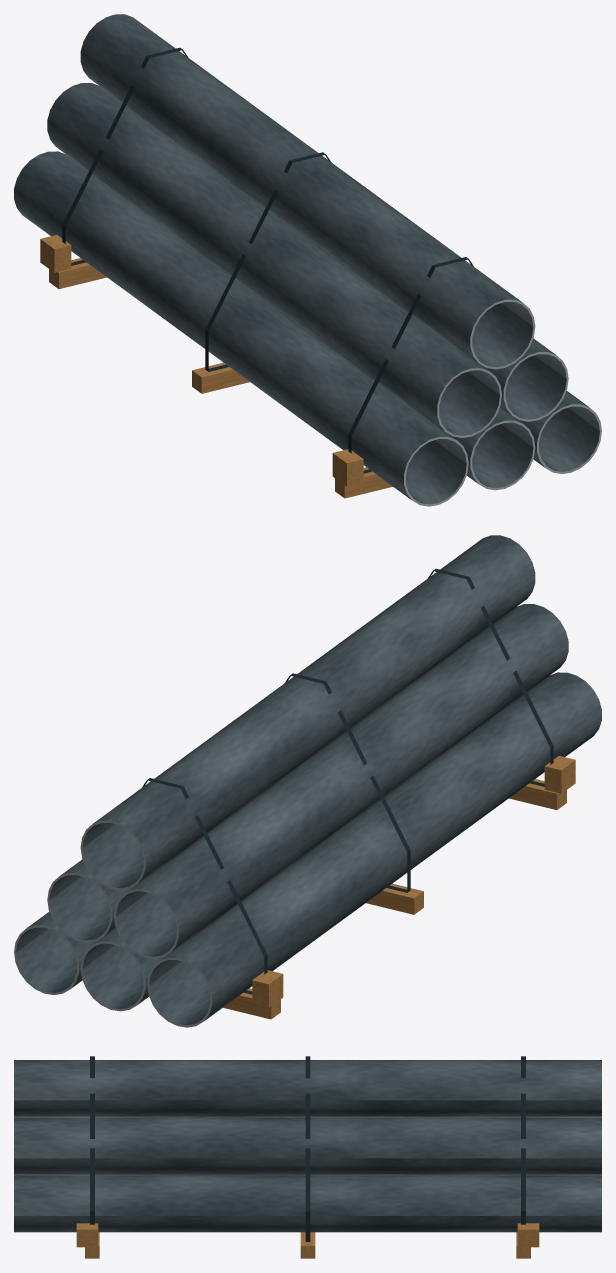
The model's file is large_pipes.glb.
3 renders of one model, top to bottom at view 1: azimuth 30°, elevation 25°; view 2: azimuth 150°, elevation 25°; view 3: azimuth 270°, elevation 25°, orthographic. The views are drawn at different scales.
Parts seen in each view (by area): view 1: Mill-scale steel, Pine dunnage, Steel cut edges, Steel banding; view 2: Mill-scale steel, Pine dunnage, Steel cut edges, Steel banding; view 3: Mill-scale steel, Steel banding, Pine dunnage.
Part boxes in pixels (<box>): Mill-scale steel: <box>14,14,599,504</box>; Pine dunnage: <box>40,235,392,498</box>; Steel cut edges: <box>404,299,601,506</box>; Steel banding: <box>62,47,473,473</box>; Mill-scale steel: <box>16,535,601,1025</box>; Pine dunnage: <box>223,756,575,1019</box>; Steel cut edges: <box>14,820,211,1027</box>; Steel banding: <box>142,568,553,994</box>; Mill-scale steel: <box>14,1060,601,1232</box>; Steel banding: <box>90,1056,525,1241</box>; Pine dunnage: <box>76,1223,539,1258</box>.
Bounding box in the file's own units: 2.03 × 1.75 × 6.
4 materials, 3 textured.
